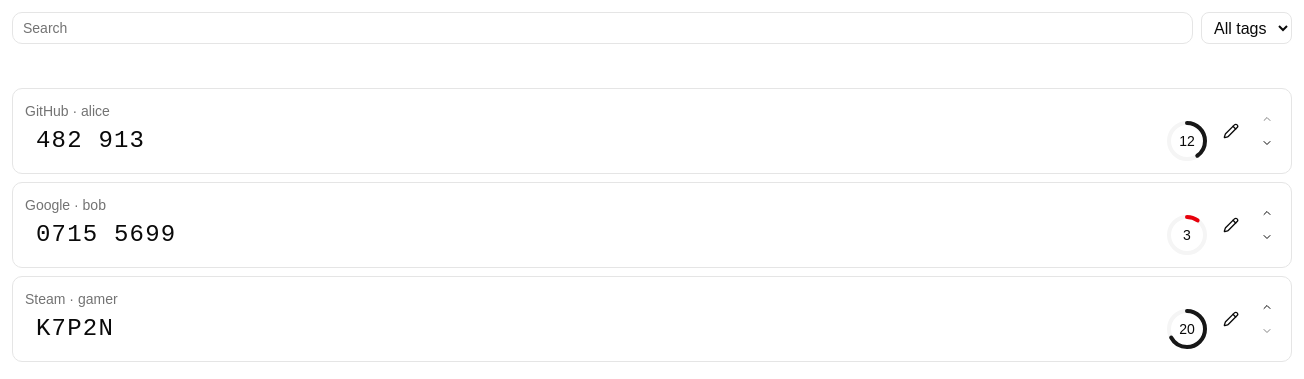
it: EntryList › searches by issuer, account and tag
Expected: the text "GitHub · alice" is shown, [25, 103, 110, 119]
In the search field named "Search accounts": point(602, 28) [12, 12, 1193, 44], type "bob"
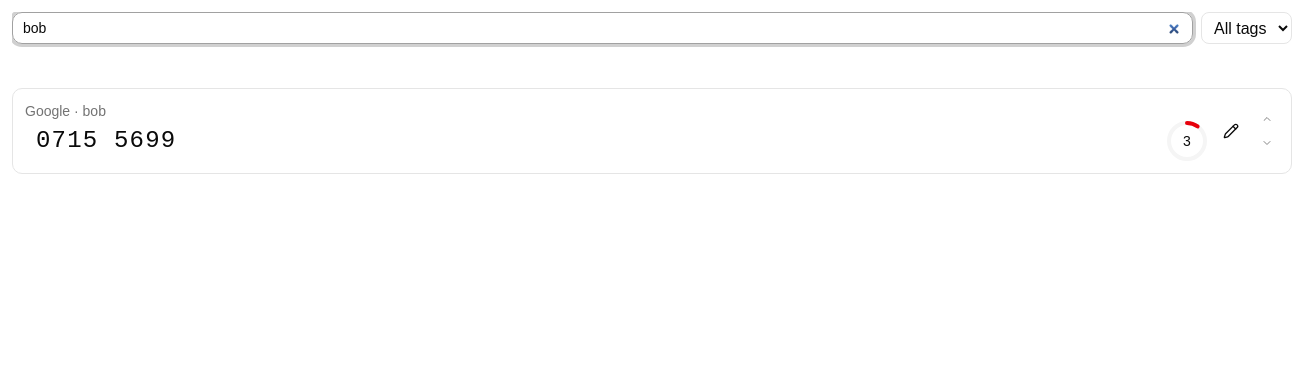
Expected: the text "Google · bob" is shown, [25, 103, 106, 119]
Expected: the text "GitHub" is gone
Replace the text in the search field with "nothing at all": point(602, 28) [12, 12, 1193, 44]
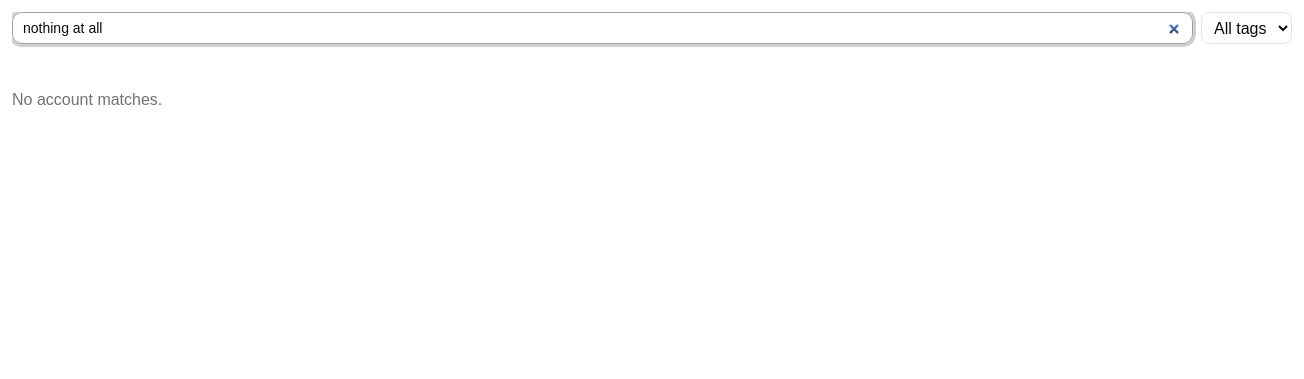
Expected: the text "No account matches." is shown, [12, 91, 162, 108]
